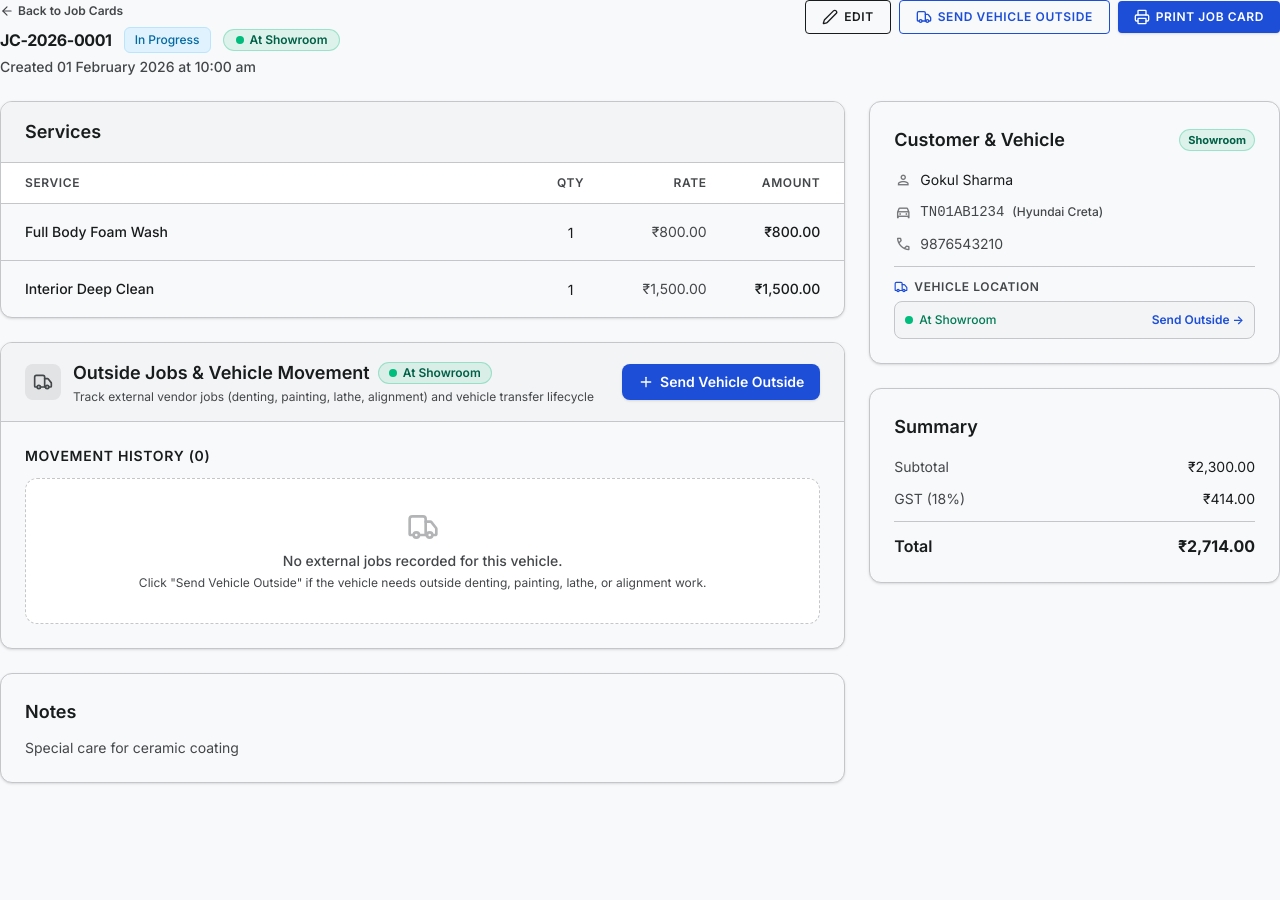
Test: JobCardDetails Component & Lifecycle States › opens in-app A4 print preview modal
The image size is (1280, 900).
Click the button "Print Job Card".
click(1199, 17)  # box [1118, 1, 1279, 33]
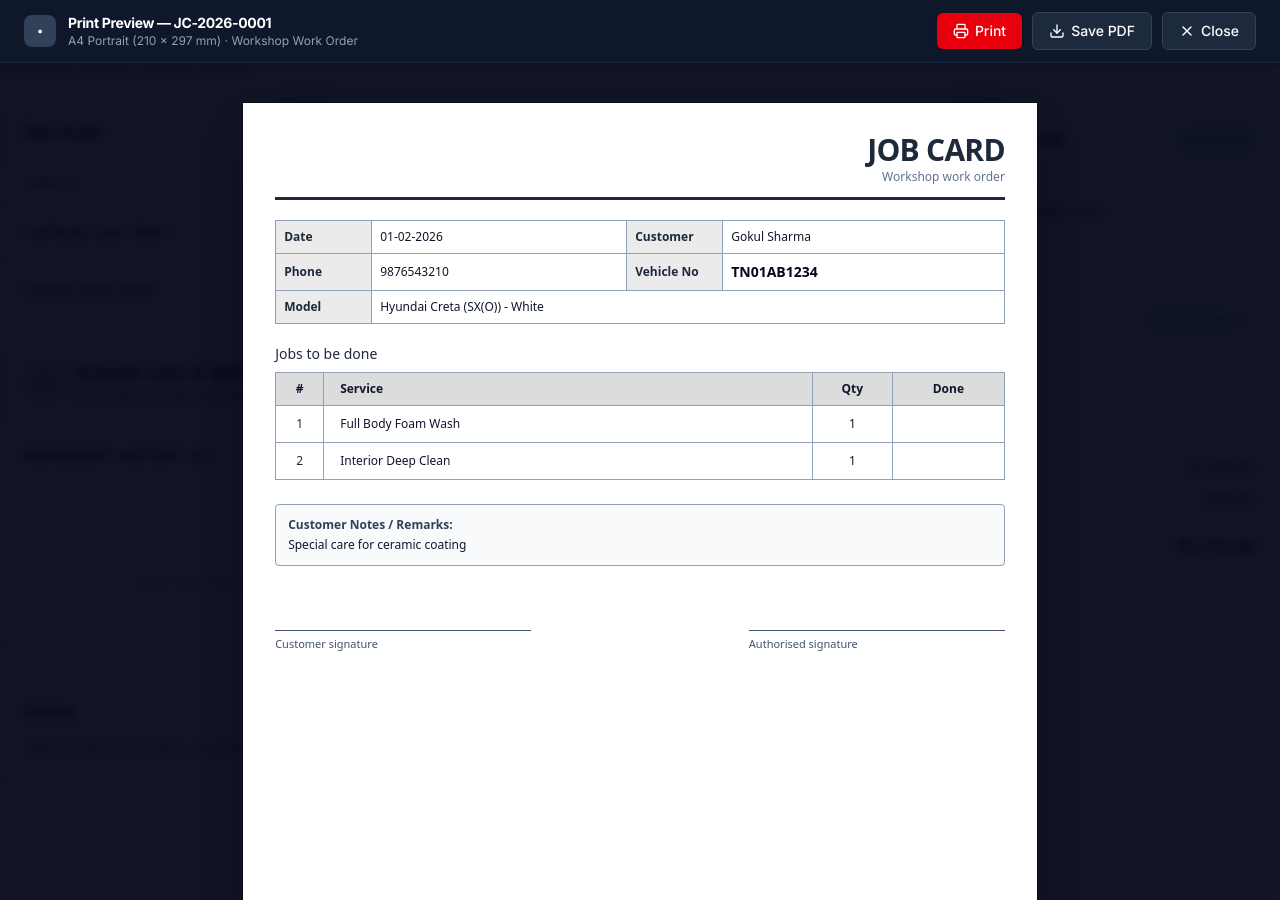
Check: the heading "Print Preview — JC-2026-0001" is shown, box [68, 14, 271, 31]
Check: the button "Close" is shown
# Close preview
Click the button "Close".
click(1209, 31)  # box [1162, 12, 1256, 50]
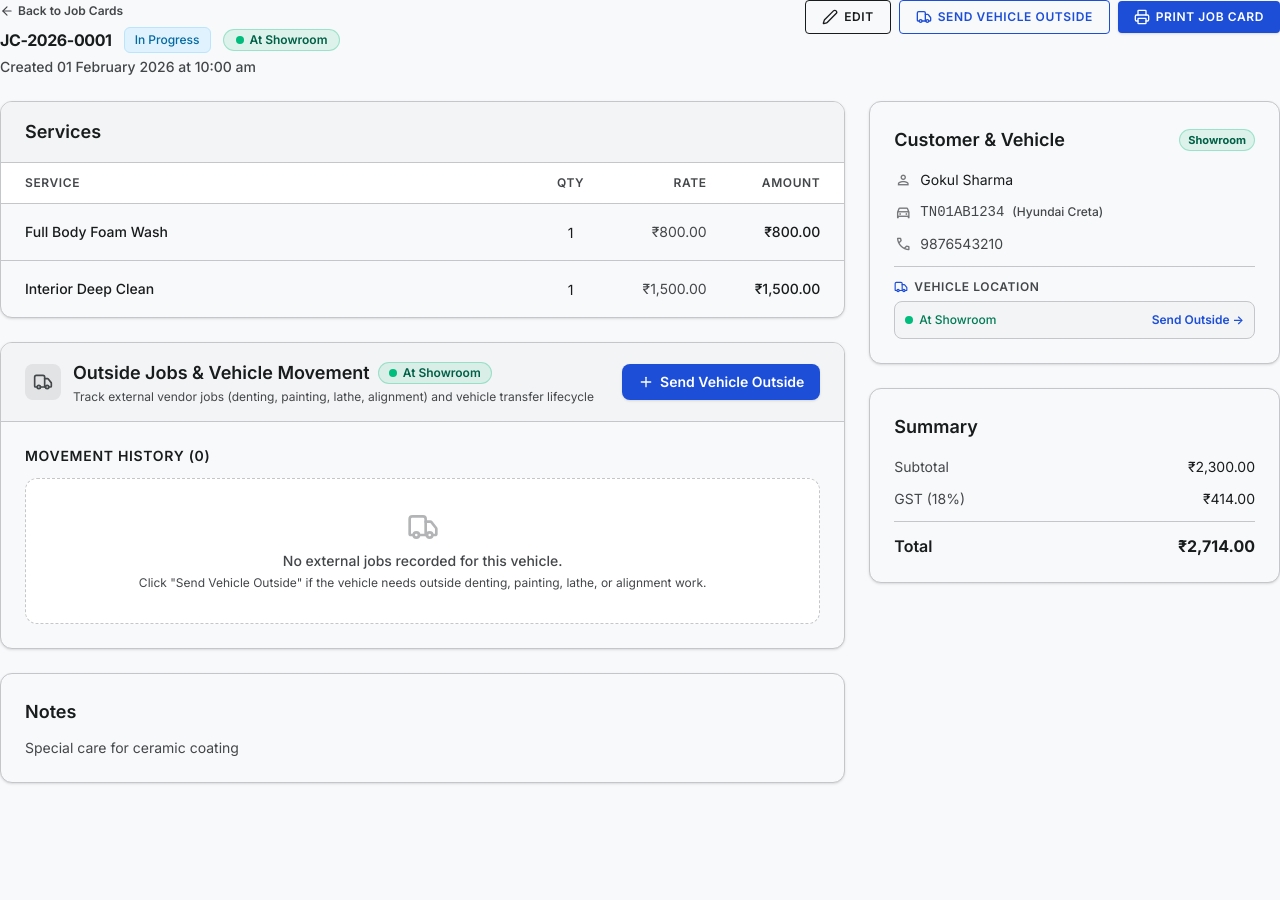
Check: the heading "Print Preview — JC-2026-0001" is gone
